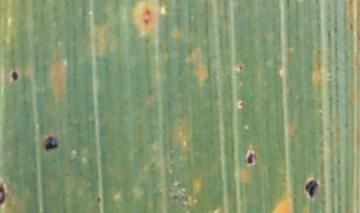tarspot: (304, 180, 318, 197), (45, 136, 57, 151), (1, 181, 6, 206), (247, 152, 257, 164), (11, 72, 19, 82), (238, 99, 245, 108), (237, 64, 244, 72), (144, 9, 152, 16), (96, 195, 101, 203), (143, 19, 150, 24)
